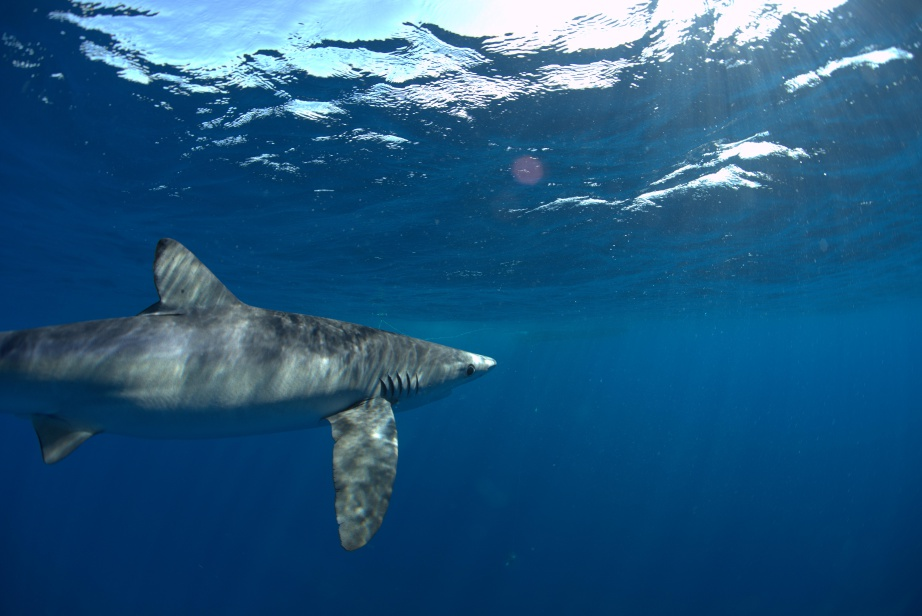Azul: (1, 219, 521, 565)
